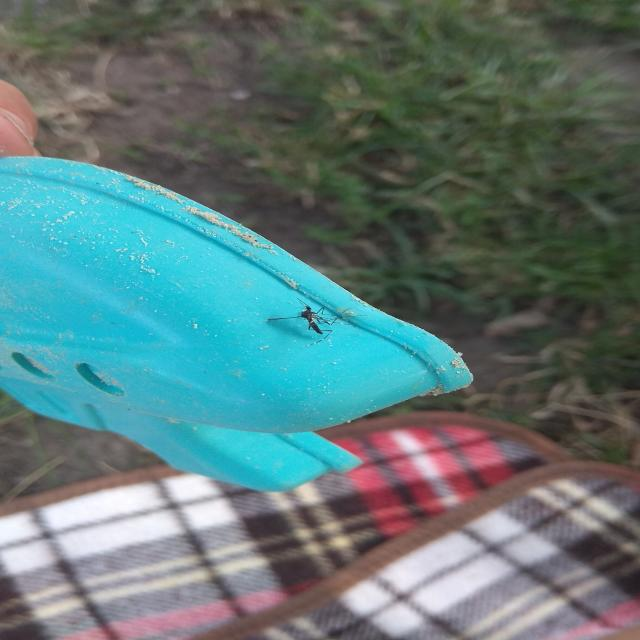albopictus: (260, 294, 362, 343)
